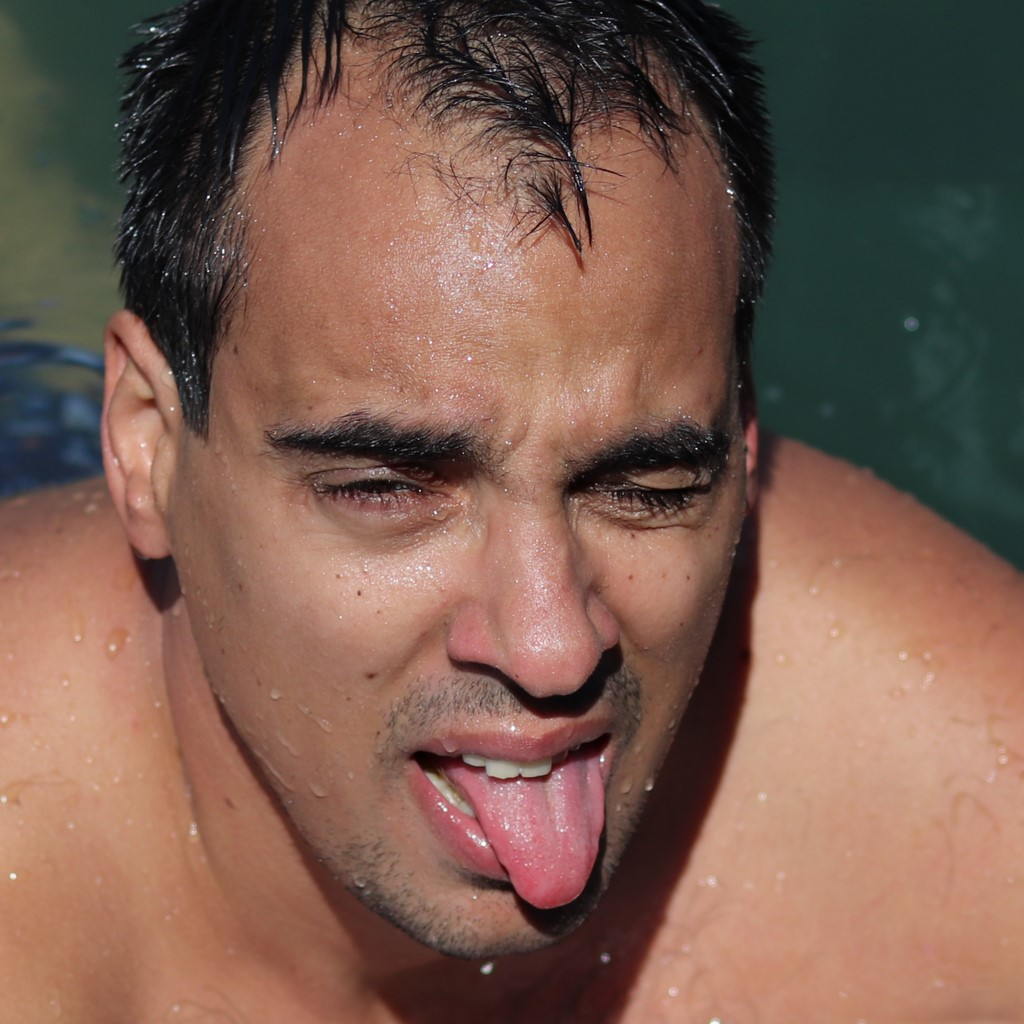sin_mascara: (121, 4, 753, 966)
